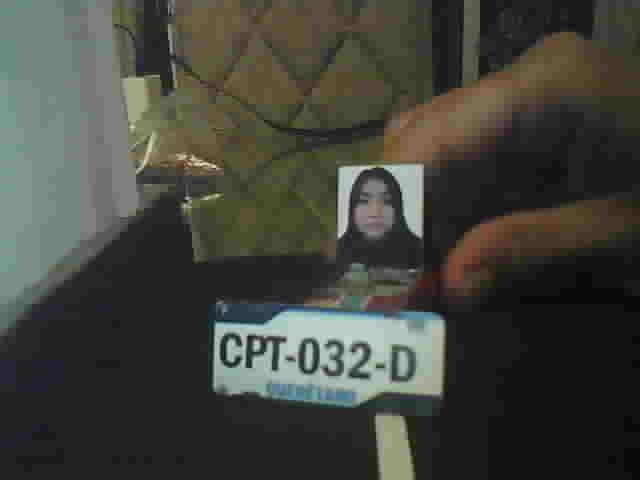PLACA: (206, 300, 450, 421)
ROSTRO: (338, 165, 424, 269)
